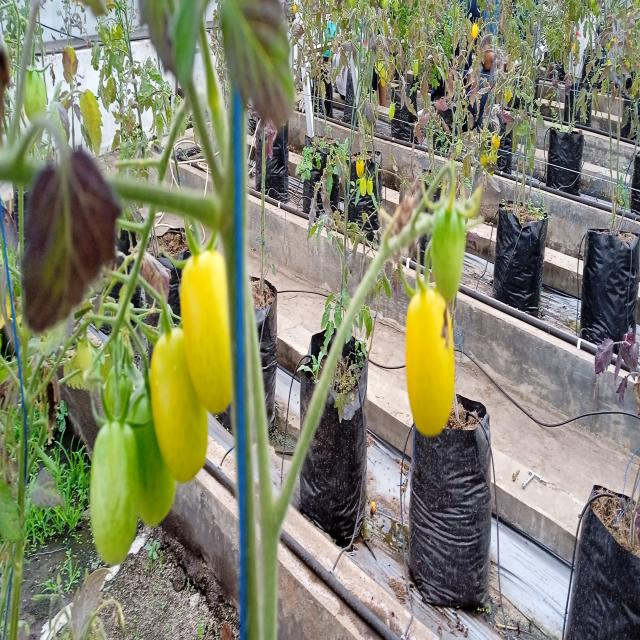fine: (177, 262, 252, 397), (144, 324, 205, 470), (404, 284, 458, 437)
unripe: (76, 424, 140, 560), (122, 379, 170, 518), (426, 187, 477, 305)
